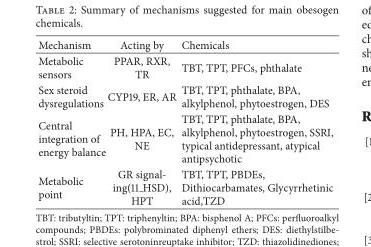table: (37, 36, 332, 207)
table column: (178, 36, 332, 207), (105, 36, 178, 207), (37, 36, 105, 207)
table column header: (37, 36, 332, 52)
table row: (37, 110, 332, 165), (37, 165, 332, 207), (37, 52, 332, 81), (37, 81, 332, 110), (37, 36, 332, 52)
